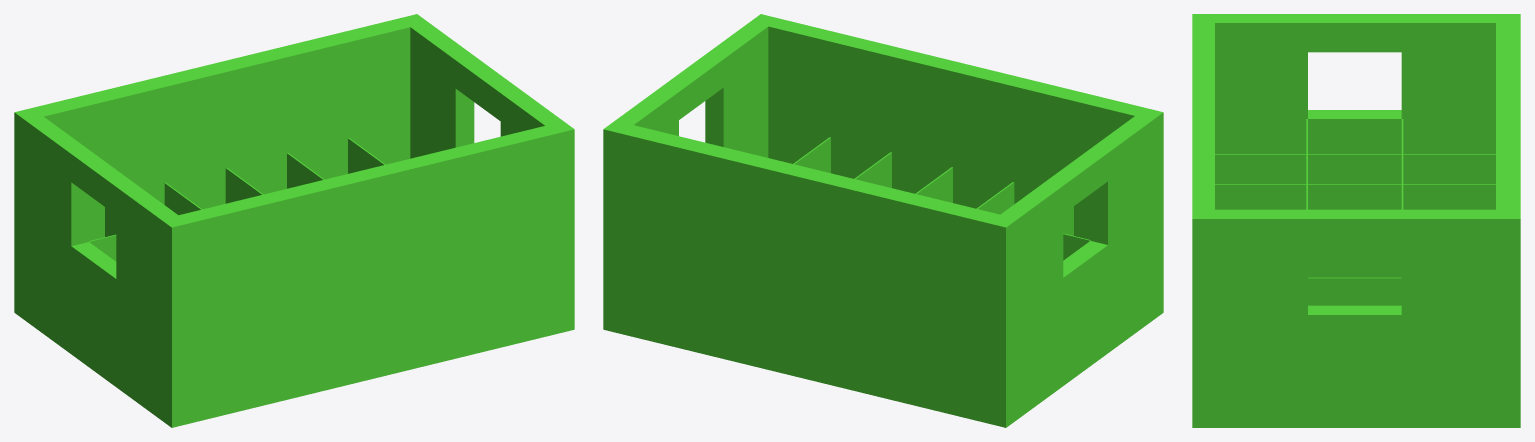
The model's file is beerbox.fbx.
3 views of the same model, side by side, from view 1: azimuth 30°, elevation 25°; view 2: azimuth 150°, elevation 25°; view 3: azimuth 270°, elevation 25° (orthographic). The views are drawn at different scales.
Parts seen in each view (by area): view 1: Cube; view 2: Cube; view 3: Cube.
Boxes of the visible parts, left/top/right/bottom form: Cube: left=14, top=14, right=574, bottom=427; Cube: left=603, top=14, right=1163, bottom=427; Cube: left=1192, top=14, right=1520, bottom=427.
Size of the model in its own units: 145 by 69.15 by 98.53.
